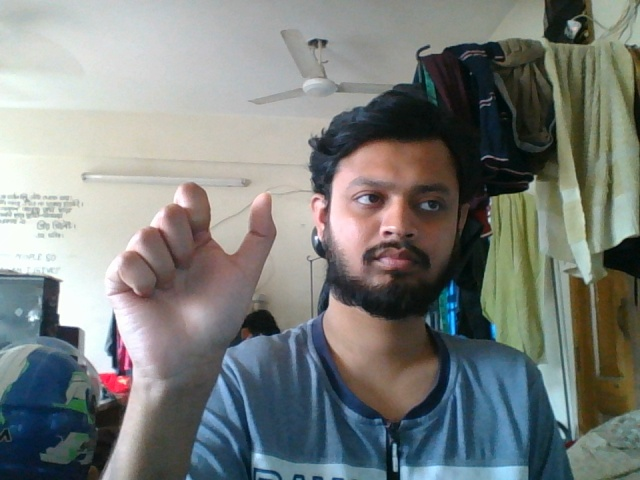dho: (99, 175, 283, 441)
